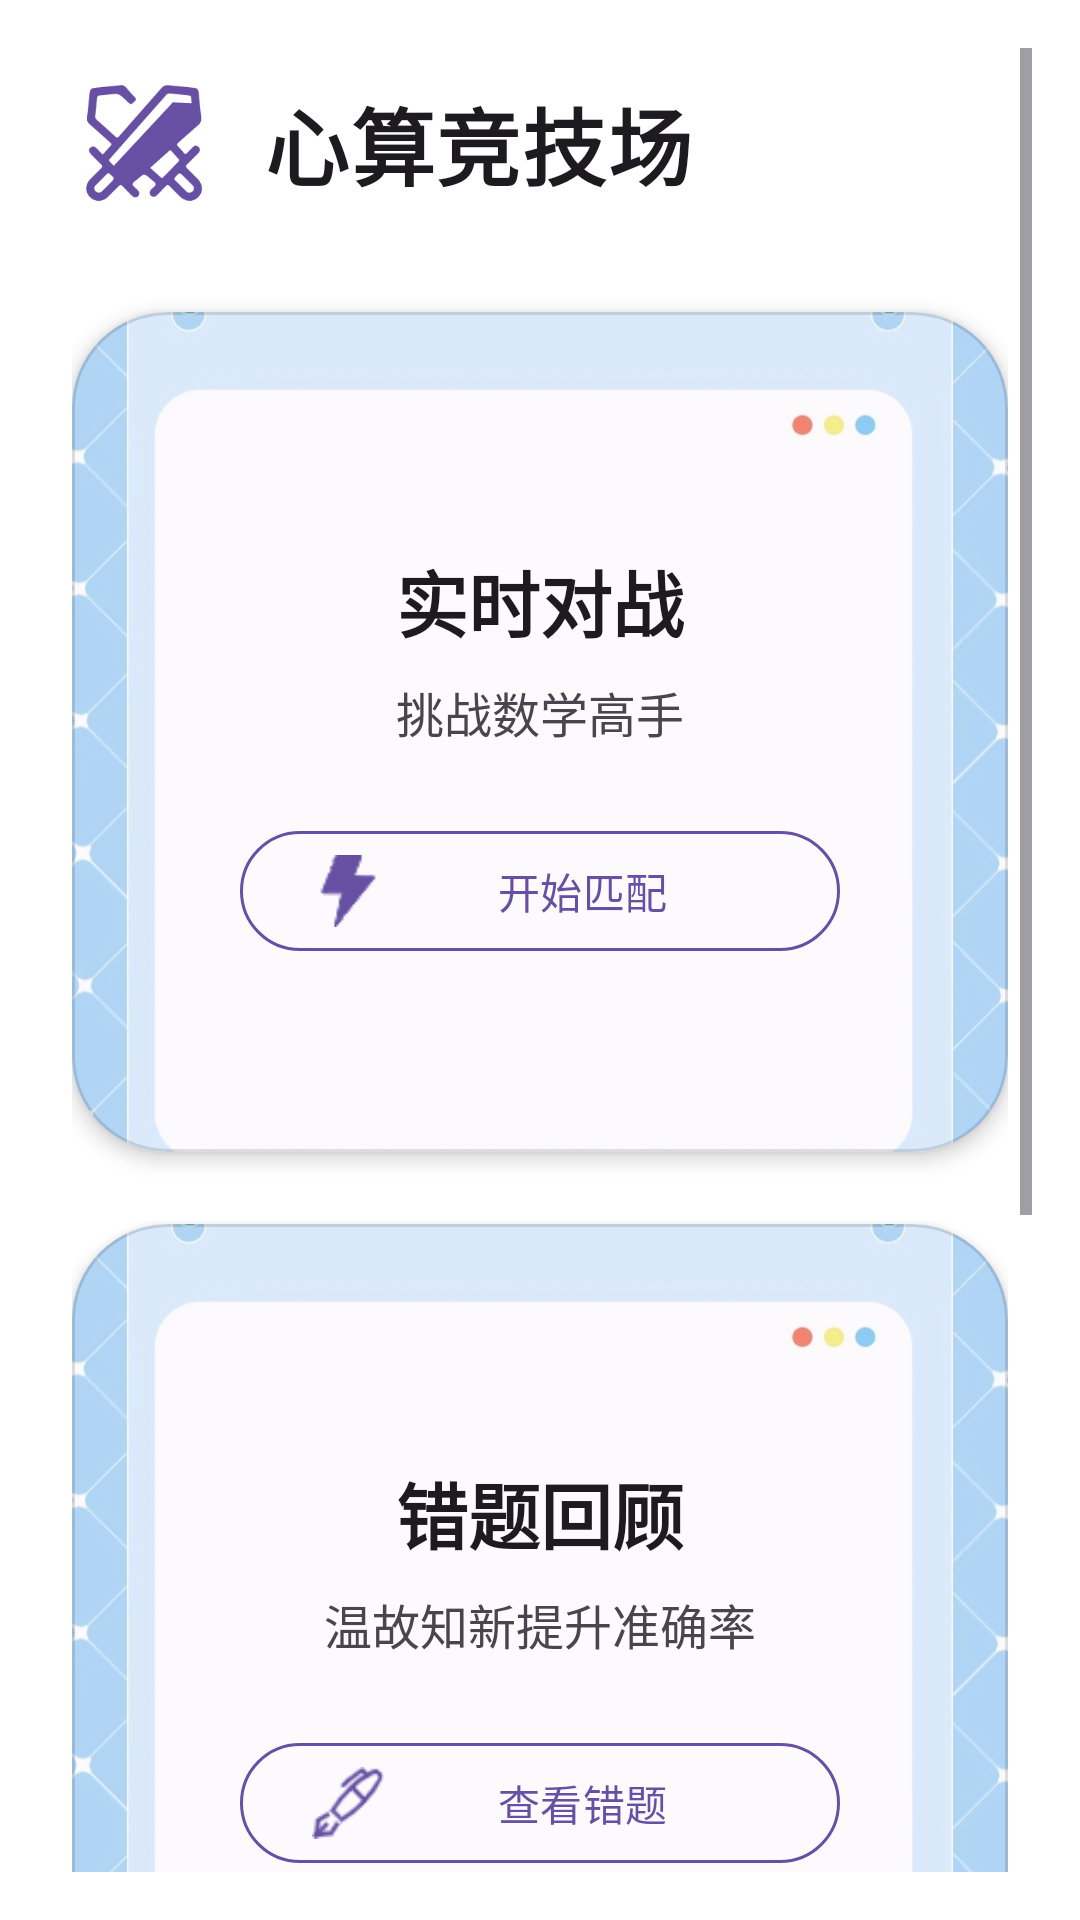

Screen size 1080 x 1920. Icon name, then its box in pixels as (x1, y1, x2, y2):
battle: (86, 85, 202, 201)
